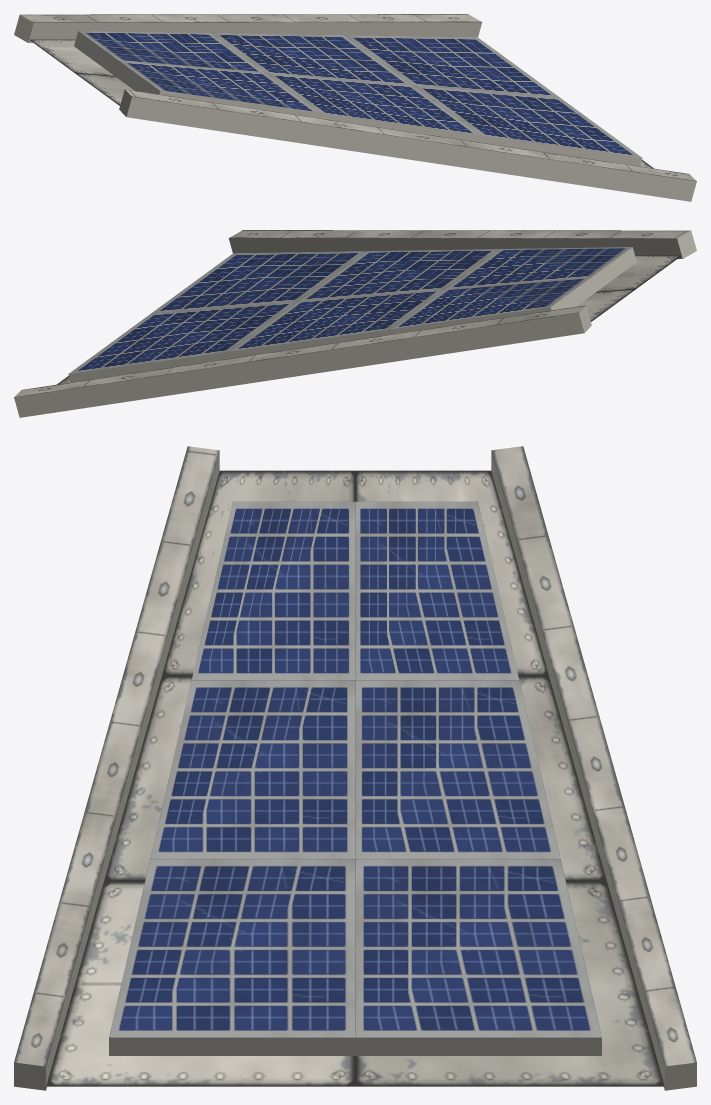
File: cen_roof_solar.fbx
The picture shows the model from 3 angles, top to bottom: view 1: azimuth 30°, elevation 25°; view 2: azimuth 150°, elevation 25°; view 3: azimuth 270°, elevation 25°; orthographic projection. The views are drawn at different scales.
Visible parts, largest first — view 1: cen_roof_solar; view 2: cen_roof_solar; view 3: cen_roof_solar.
Boxes of the visible parts, <box> form: cen_roof_solar: <box>14,14,696,201</box>; cen_roof_solar: <box>14,230,696,417</box>; cen_roof_solar: <box>14,446,696,1090</box>.
Bounding box in the file's own units: 1.63 × 0.5606 × 1.25.
1 material, 1 textured.
